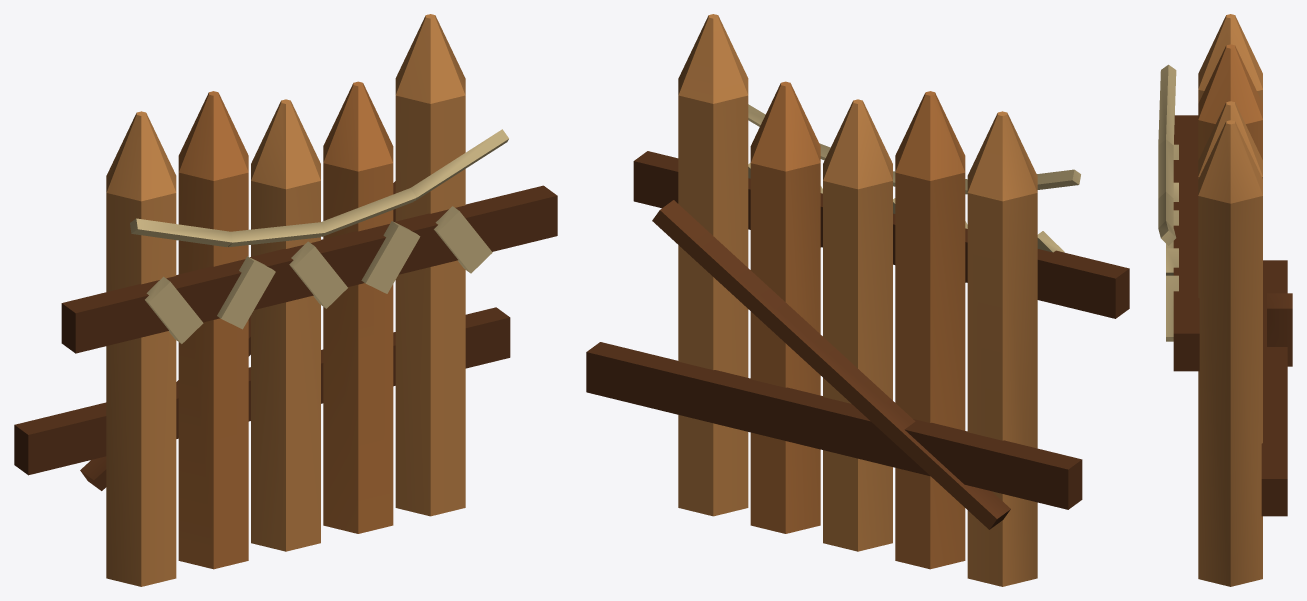
The model's file is wall_link_0.glb.
The picture shows the model from 3 angles, left to right: view 1: azimuth 30°, elevation 25°; view 2: azimuth 150°, elevation 25°; view 3: azimuth 270°, elevation 25°; orthographic projection. The views are drawn at different scales.
Parts seen in each view (by area): view 1: body; view 2: body; view 3: body.
Boxes of the visible parts, x1,y1,x2,y2 form: body: (14,14,557,586); body: (586,14,1129,586); body: (1158,14,1292,586).
Bounding box in the file's own units: 2 × 1.92 × 0.52.
